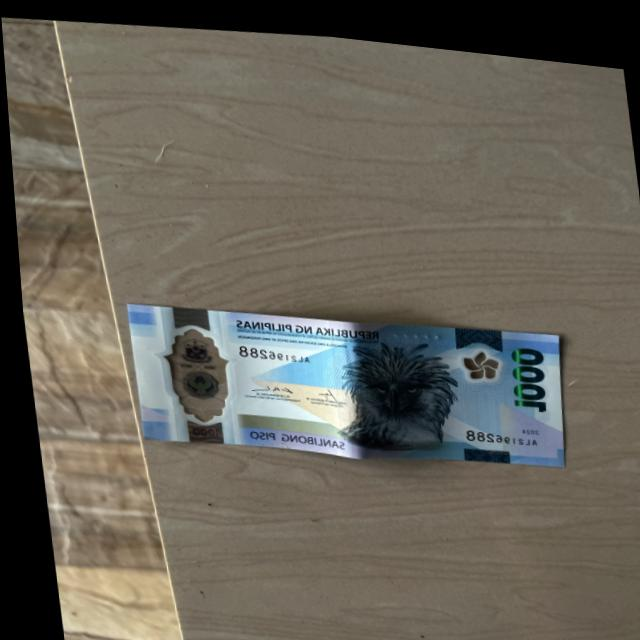clear_window: (147, 312, 232, 430)
eagle: (328, 324, 458, 447)
sampaguita: (453, 334, 501, 375)
